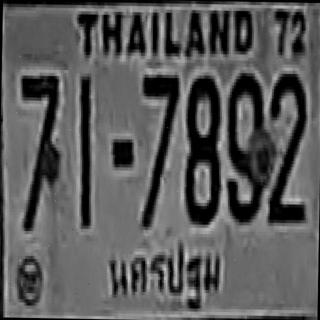N01: (77, 75, 91, 224)
N02: (266, 72, 306, 222)
N07: (18, 72, 60, 228), (138, 71, 178, 227), (140, 71, 178, 178)
N08: (183, 72, 220, 222)
N09: (224, 70, 266, 220)
P28: (100, 234, 230, 316)
